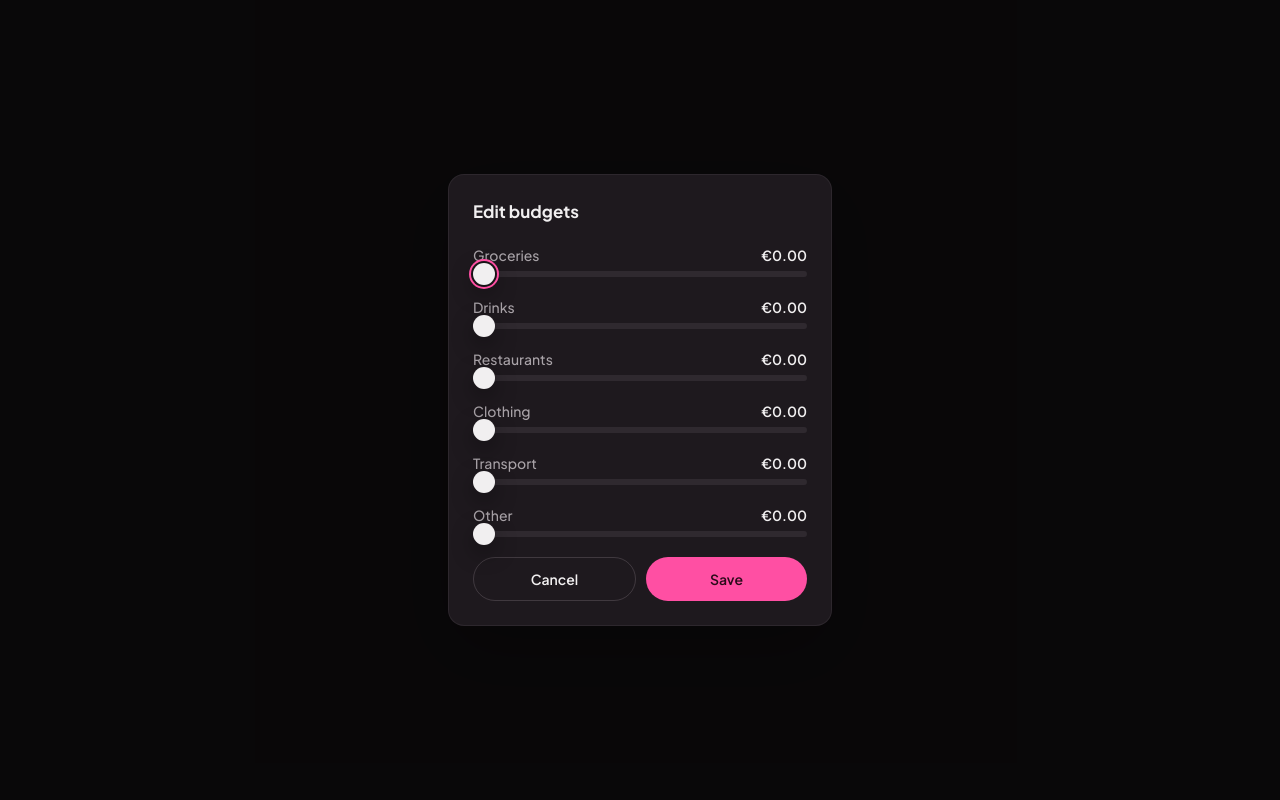
Test case: EditBudgetsModal › shows the translated error and keeps the modal open when saving fails
This screenshot has width=1280, height=800.
Press ArrowRight in the slider named "Groceries", box [473,263,495,285]
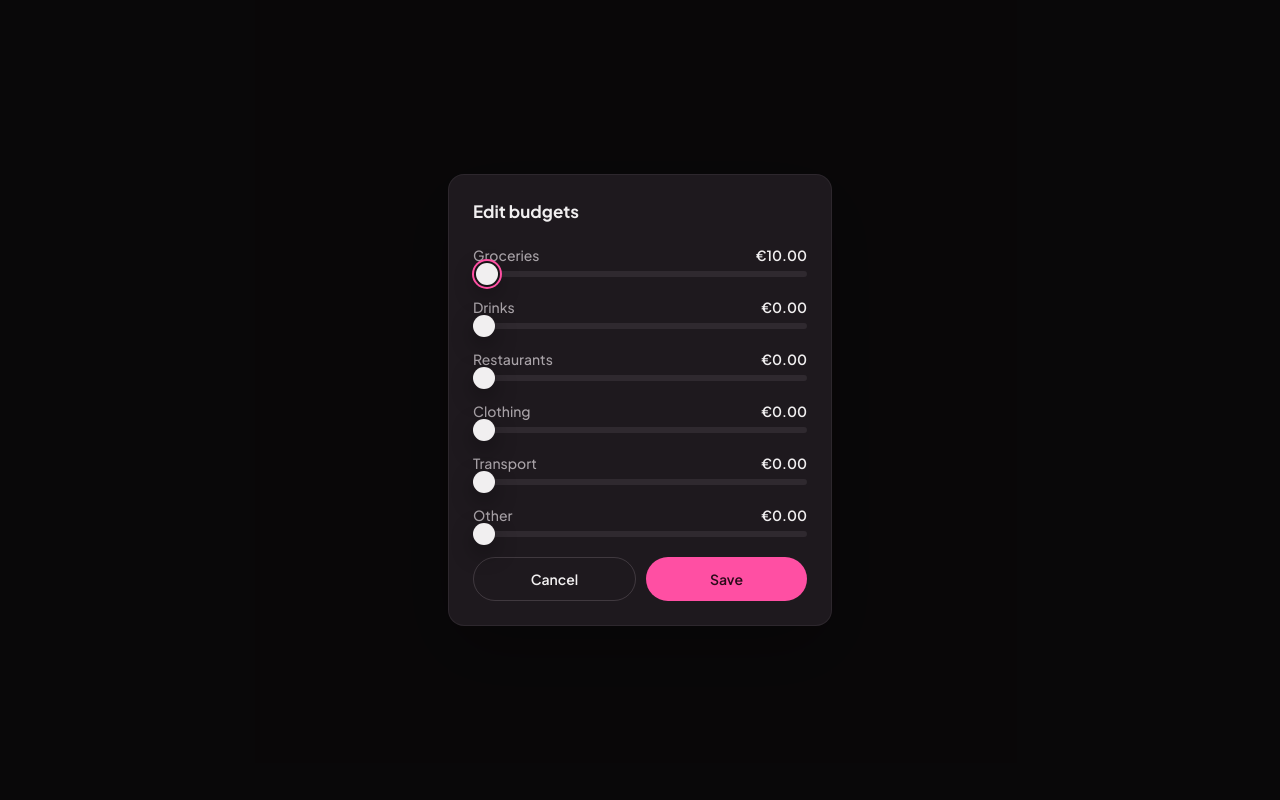
Click the button "Save".
click(726, 579)  # box [646,557,807,601]
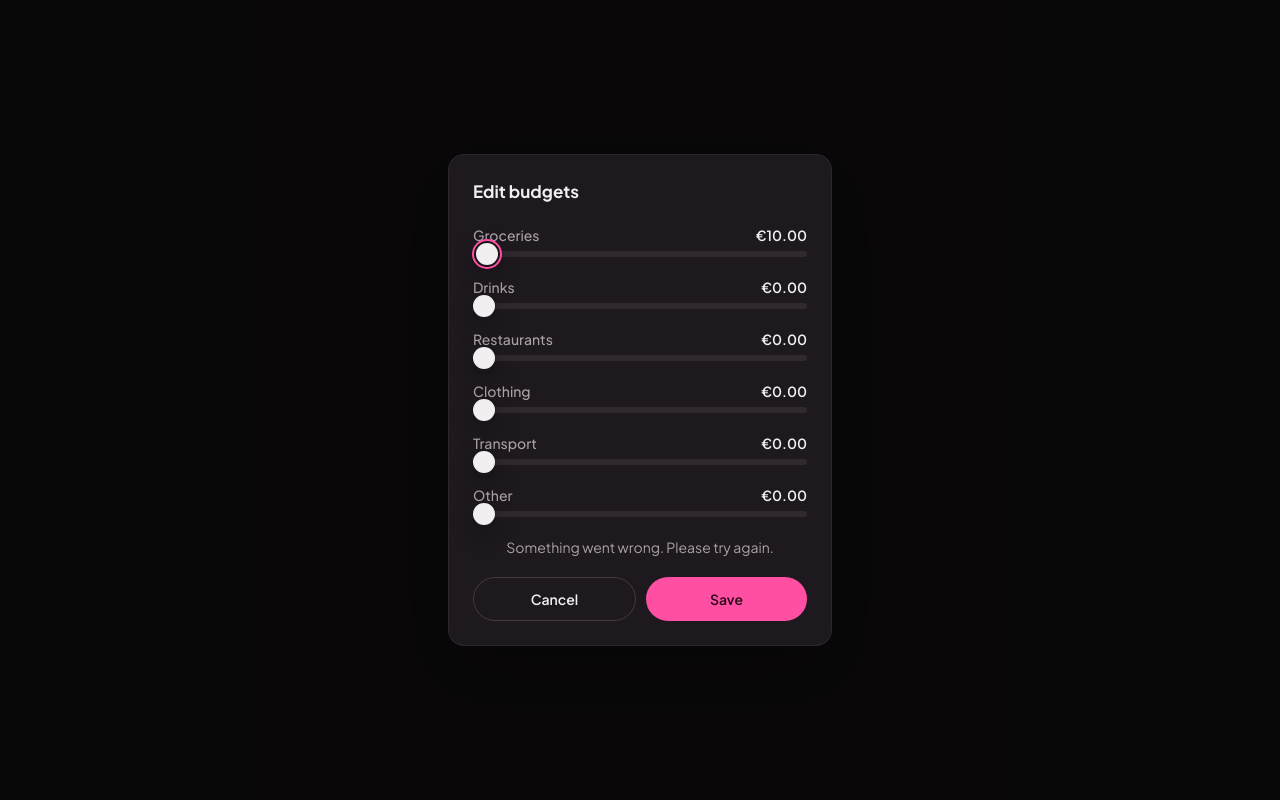
expect the message reads "Something went wrong. Please try again.": met, box [506,538,774,556]
